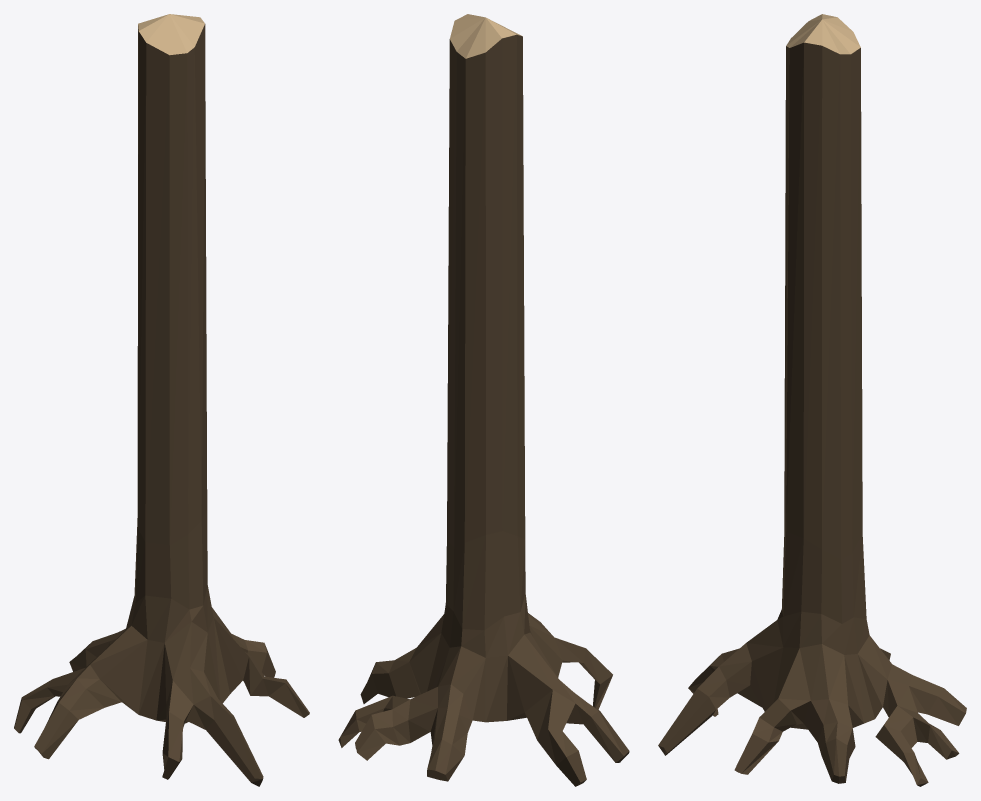
File: SM_Env_Tree_Base_02.glb
The picture shows the model from 3 angles, left to right: view 1: azimuth 30°, elevation 25°; view 2: azimuth 150°, elevation 25°; view 3: azimuth 270°, elevation 25°; orthographic projection.
Parts seen in each view (by area): view 1: SM_Env_Tree_Base_02_part00; view 2: SM_Env_Tree_Base_02_part00; view 3: SM_Env_Tree_Base_02_part00.
Part boxes in pixels (bbox=[...]): SM_Env_Tree_Base_02_part00: bbox=[14, 14, 309, 786]; SM_Env_Tree_Base_02_part00: bbox=[338, 14, 629, 786]; SM_Env_Tree_Base_02_part00: bbox=[658, 14, 966, 786].
Bounding box in the file's own units: 3.01 × 8.19 × 3.14.
Materials: 1 (1 with a texture image).
